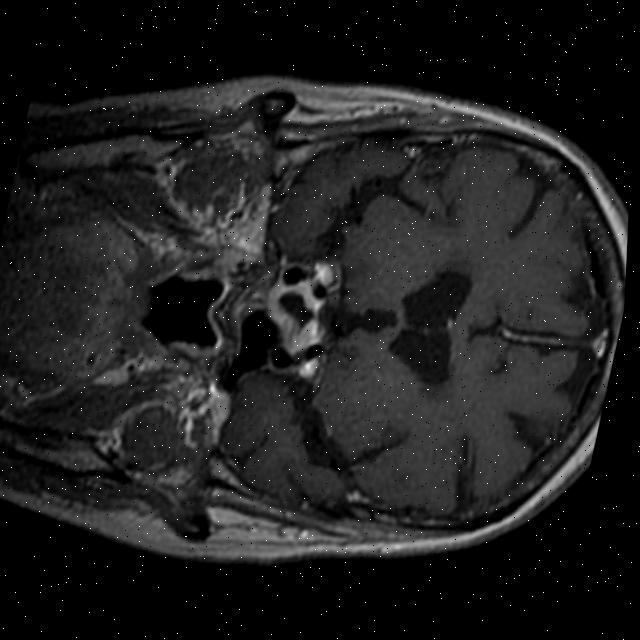Pituitary: (254, 270, 335, 362)
